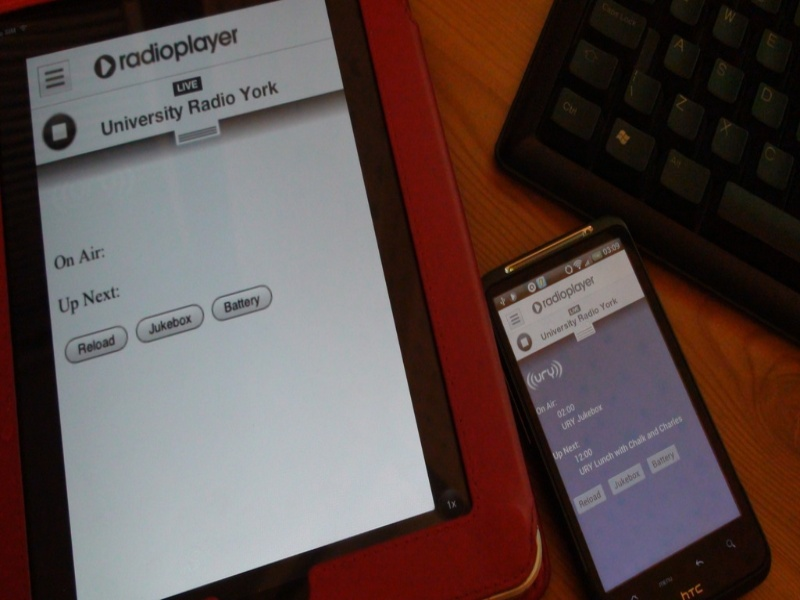Mobile Phone: (471, 216, 777, 600)
